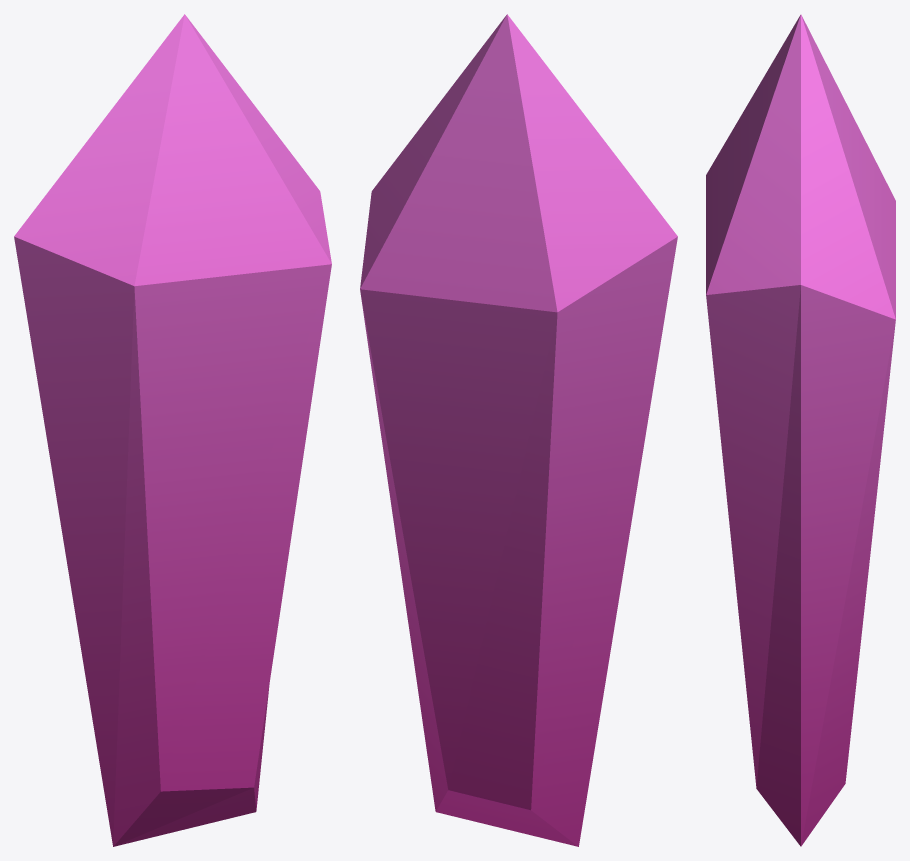
The model's file is Crystal1.fbx.
3 renders of one model, left to right at view 1: azimuth 30°, elevation 25°; view 2: azimuth 150°, elevation 25°; view 3: azimuth 270°, elevation 25°, orthographic. The views are drawn at different scales.
Visible parts, largest first — view 1: Crystal1; view 2: Crystal1; view 3: Crystal1.
Part boxes in pixels (x1,y1,x2,y2): Crystal1: [14, 14, 331, 846]; Crystal1: [360, 14, 677, 846]; Crystal1: [706, 14, 895, 846].
Bounding box in the file's own units: 4.81 × 12.24 × 2.64.
